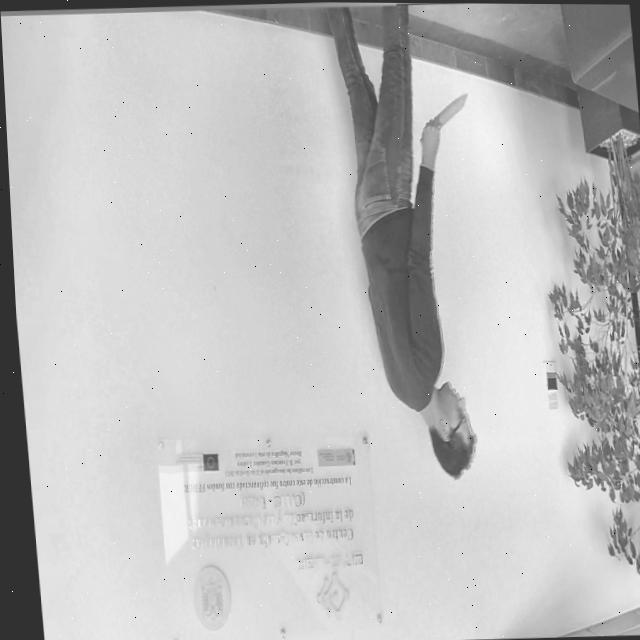knife: (434, 91, 469, 128)
